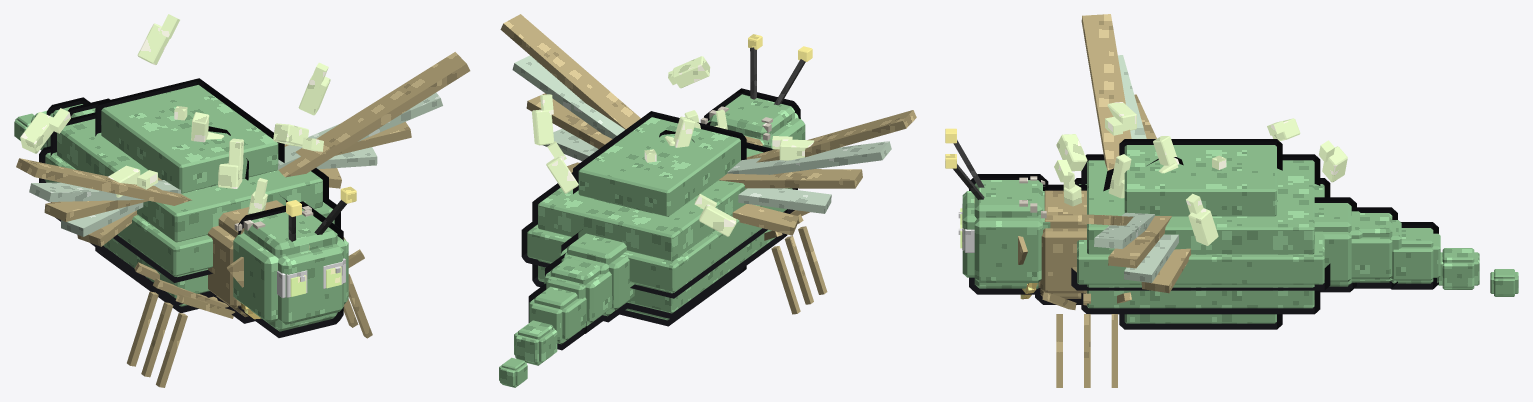
File: forest_moth_09.glb
The picture shows the model from 3 angles, left to right: view 1: azimuth 30°, elevation 25°; view 2: azimuth 150°, elevation 25°; view 3: azimuth 270°, elevation 25°; orthographic projection. The views are drawn at different scales.
Parts seen in each view (by area): view 1: model; view 2: model; view 3: model.
Part boxes in pixels (x1,y1,x2,y2): model: (14,14,470,387); model: (499,14,916,387); model: (945,14,1518,387).
Bounding box in the file's own units: 2.11 × 1.08 × 2.49.
Materials: 12 (11 with a texture image).
